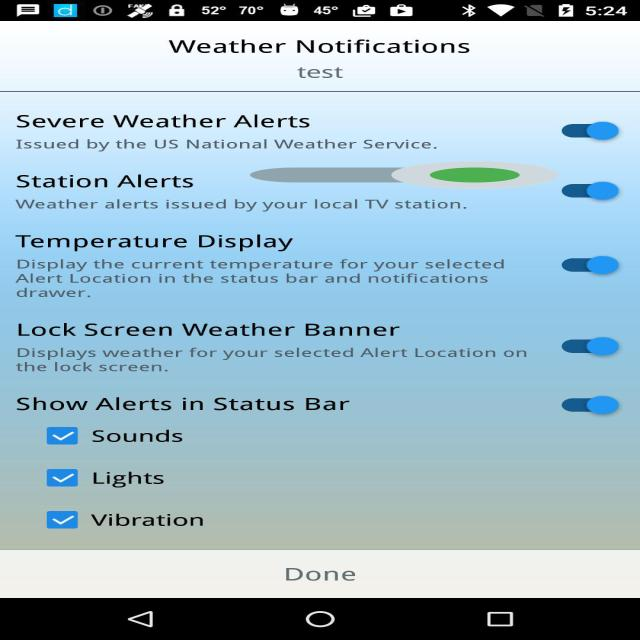social proof: (250, 149, 558, 201)
